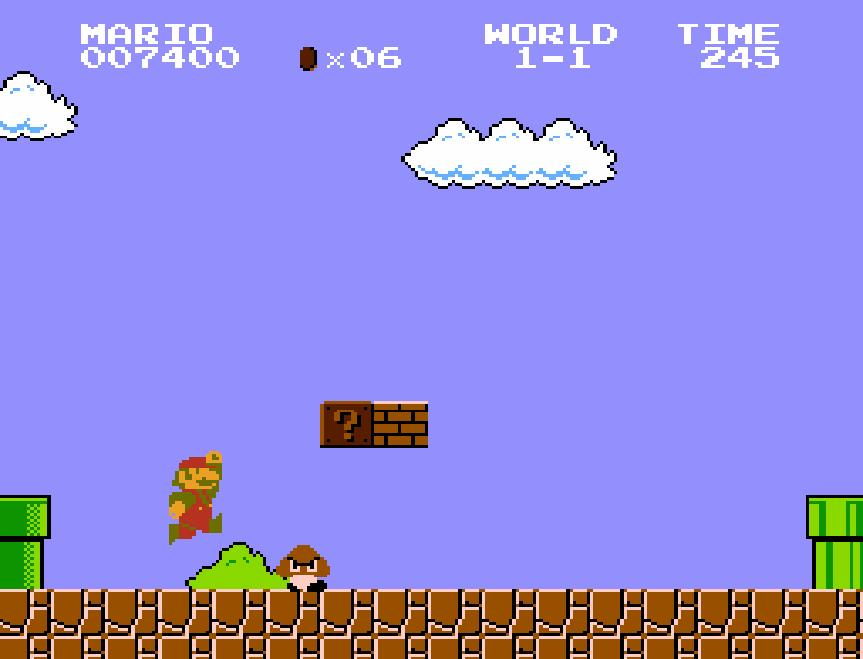big_mario: (166, 449, 224, 547)
